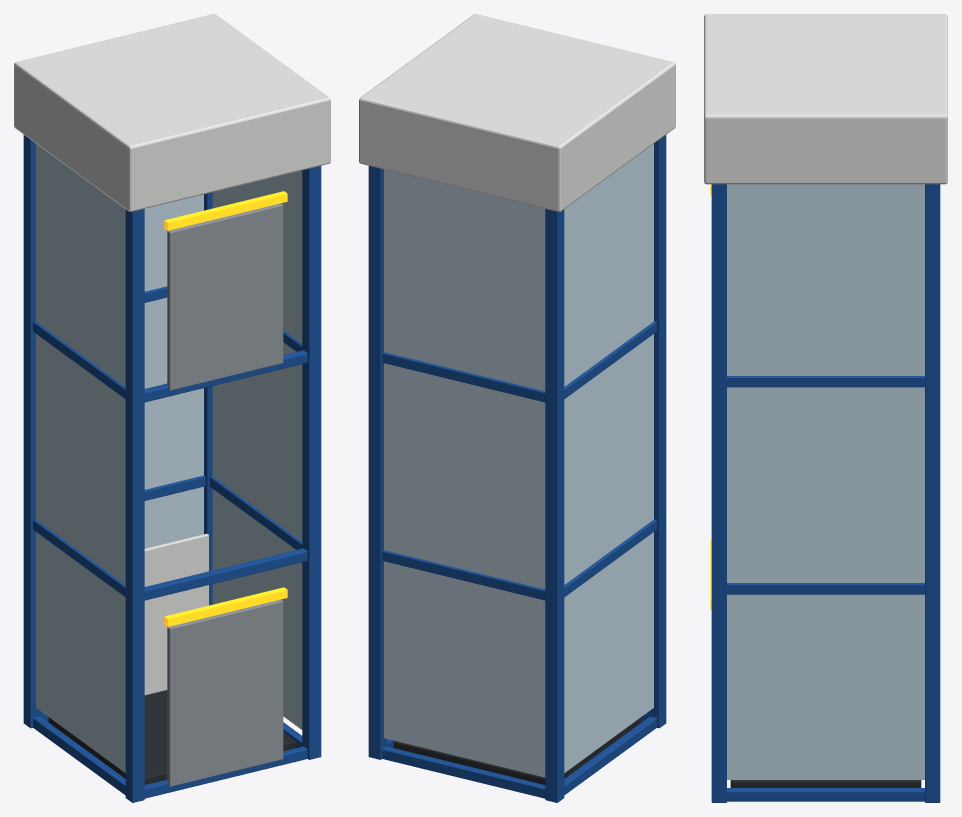
File: lift_shaft.glb
The picture shows the model from 3 angles, left to right: view 1: azimuth 30°, elevation 25°; view 2: azimuth 150°, elevation 25°; view 3: azimuth 270°, elevation 25°; orthographic projection. The views are drawn at different scales.
Visible parts, largest first — view 1: lift_shaft; view 2: lift_shaft; view 3: lift_shaft.
Boxes of the visible parts, x1,y1,x2,y2 form: lift_shaft: (14, 14, 330, 802); lift_shaft: (359, 14, 675, 802); lift_shaft: (704, 14, 947, 802).
Bounding box in the file's own units: 3.2 × 10 × 3.2.
